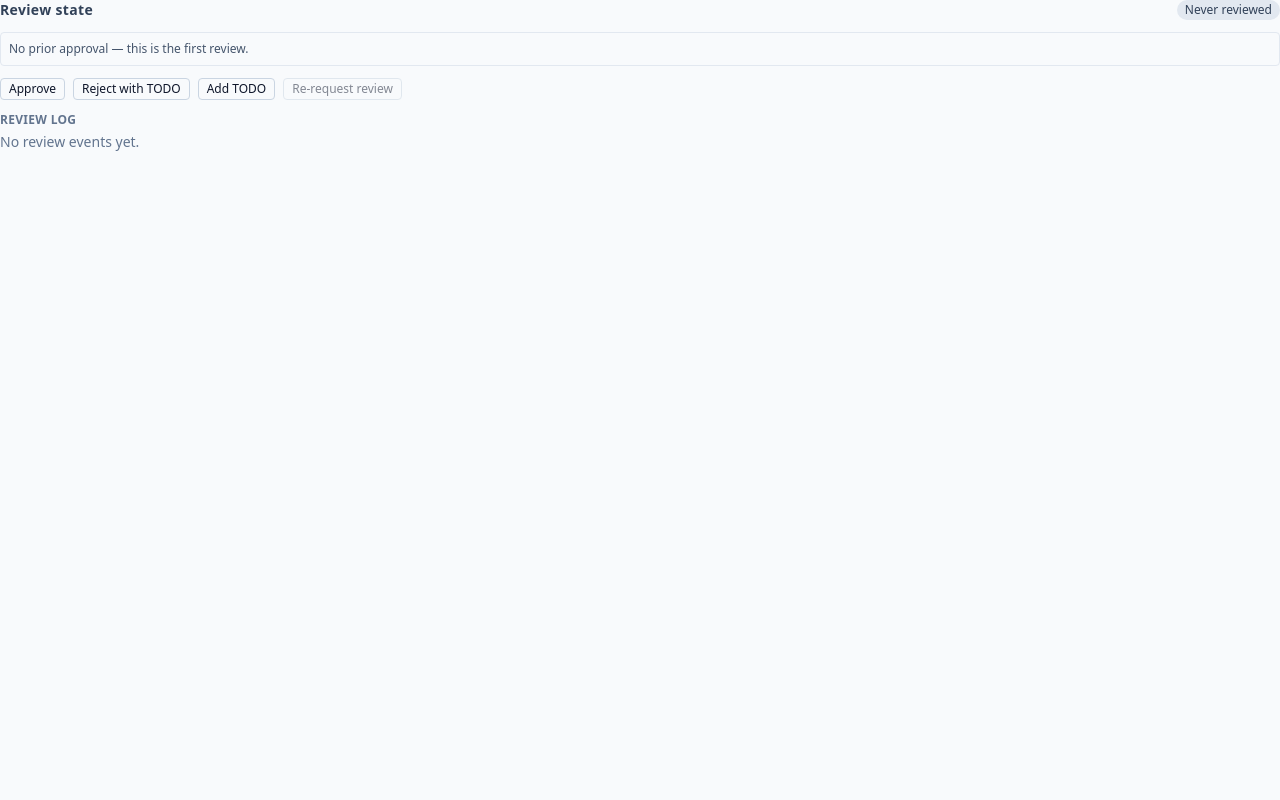
ReviewPane › opens the approve dialog when the button is clicked
Click the button "Approve".
click(32, 89)  # box [0,78,65,100]
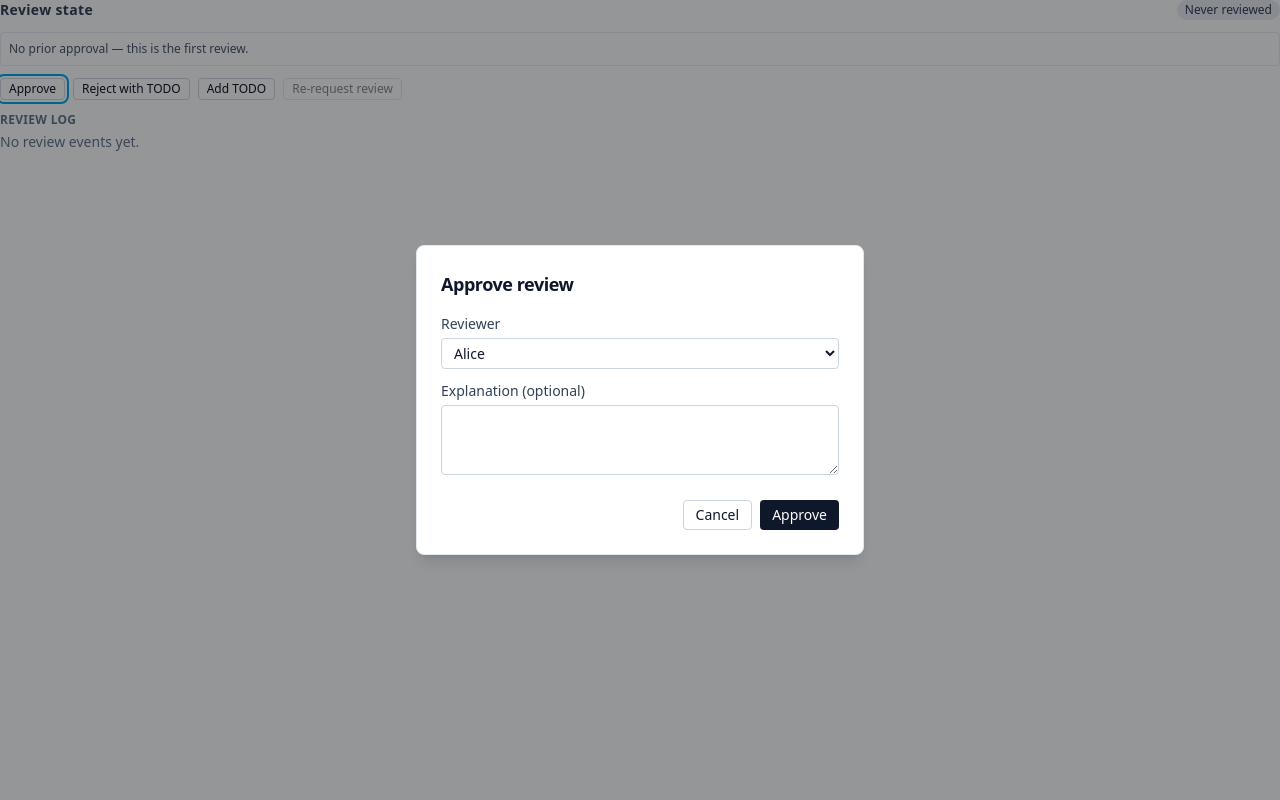
Now the dialog "Approve review" is shown
Note: Cancel closes it again.
Click the button "Cancel".
click(717, 515)  # box [682,500,752,530]
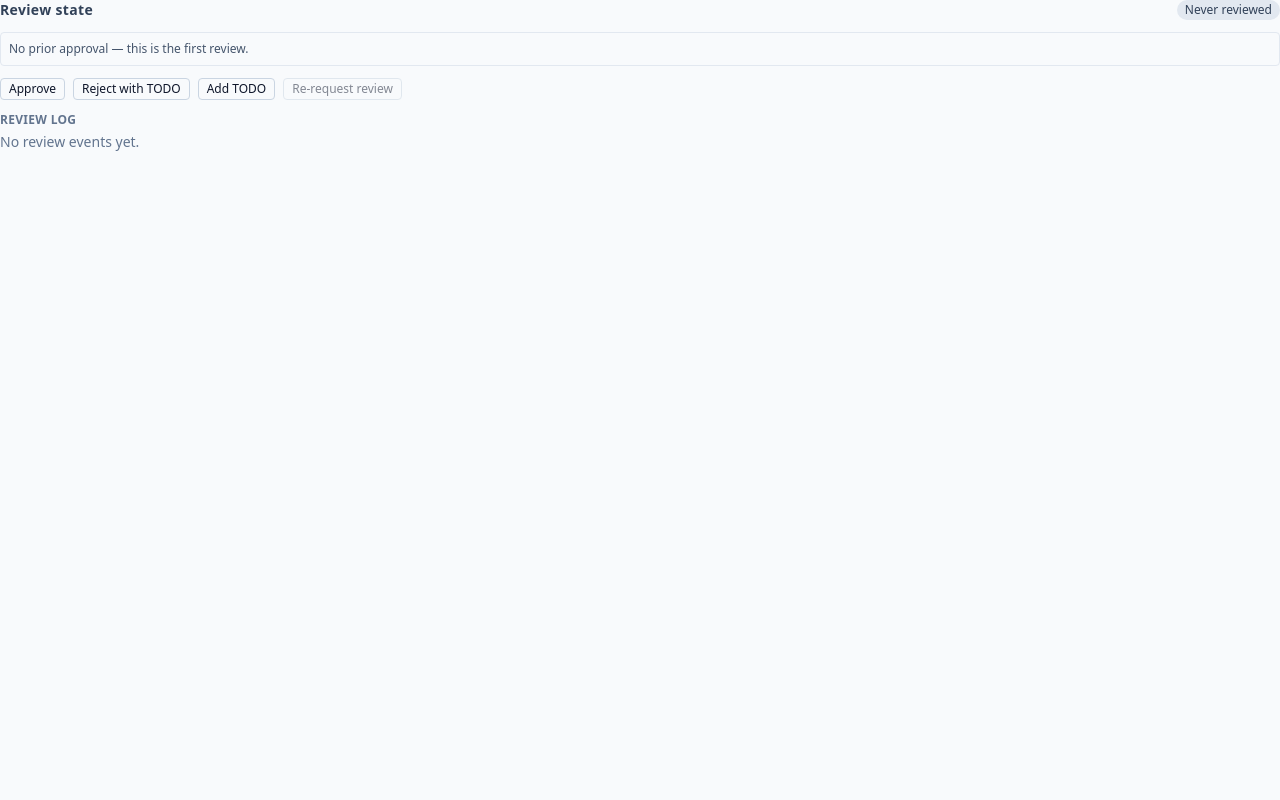
Now the heading "Approve review" is gone
